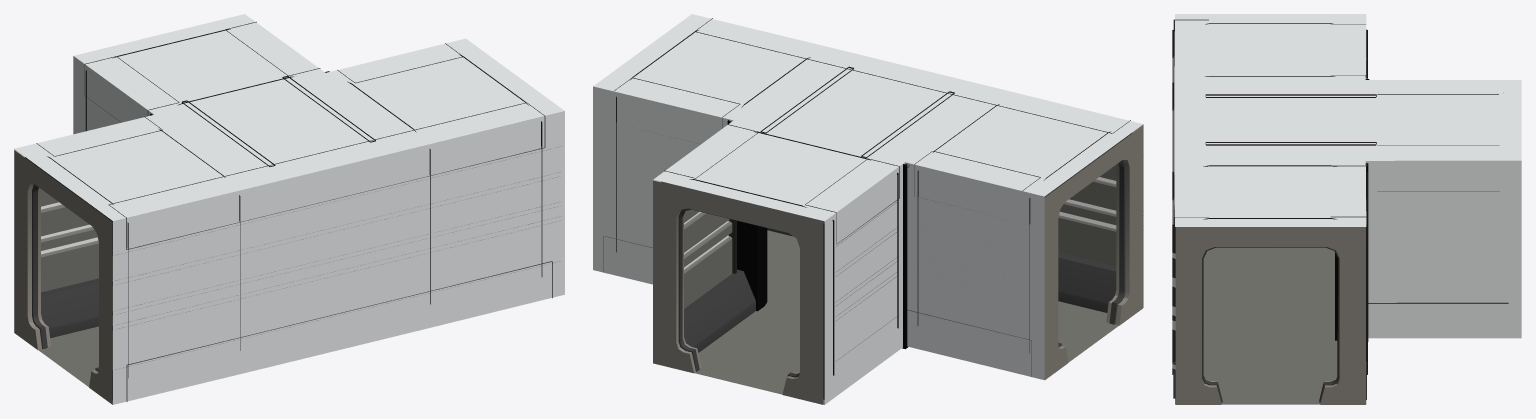
File: Corridor_3Way.fbx
3 views of the same model, side by side, from view 1: azimuth 30°, elevation 25°; view 2: azimuth 150°, elevation 25°; view 3: azimuth 270°, elevation 25° (orthographic). The views are drawn at different scales.
Parts seen in each view (by area): view 1: Corridor_3Way; view 2: Corridor_3Way, Corridor_3WayLights; view 3: Corridor_3Way.
Boxes of the visible parts, bbox=[...] form: Corridor_3Way: bbox=[14, 14, 564, 404]; Corridor_3Way: bbox=[593, 14, 1143, 404]; Corridor_3WayLights: bbox=[684, 177, 1116, 269]; Corridor_3Way: bbox=[1172, 14, 1521, 404].
Size of the model in its own units: 70.1 by 27.63 by 48.55.
